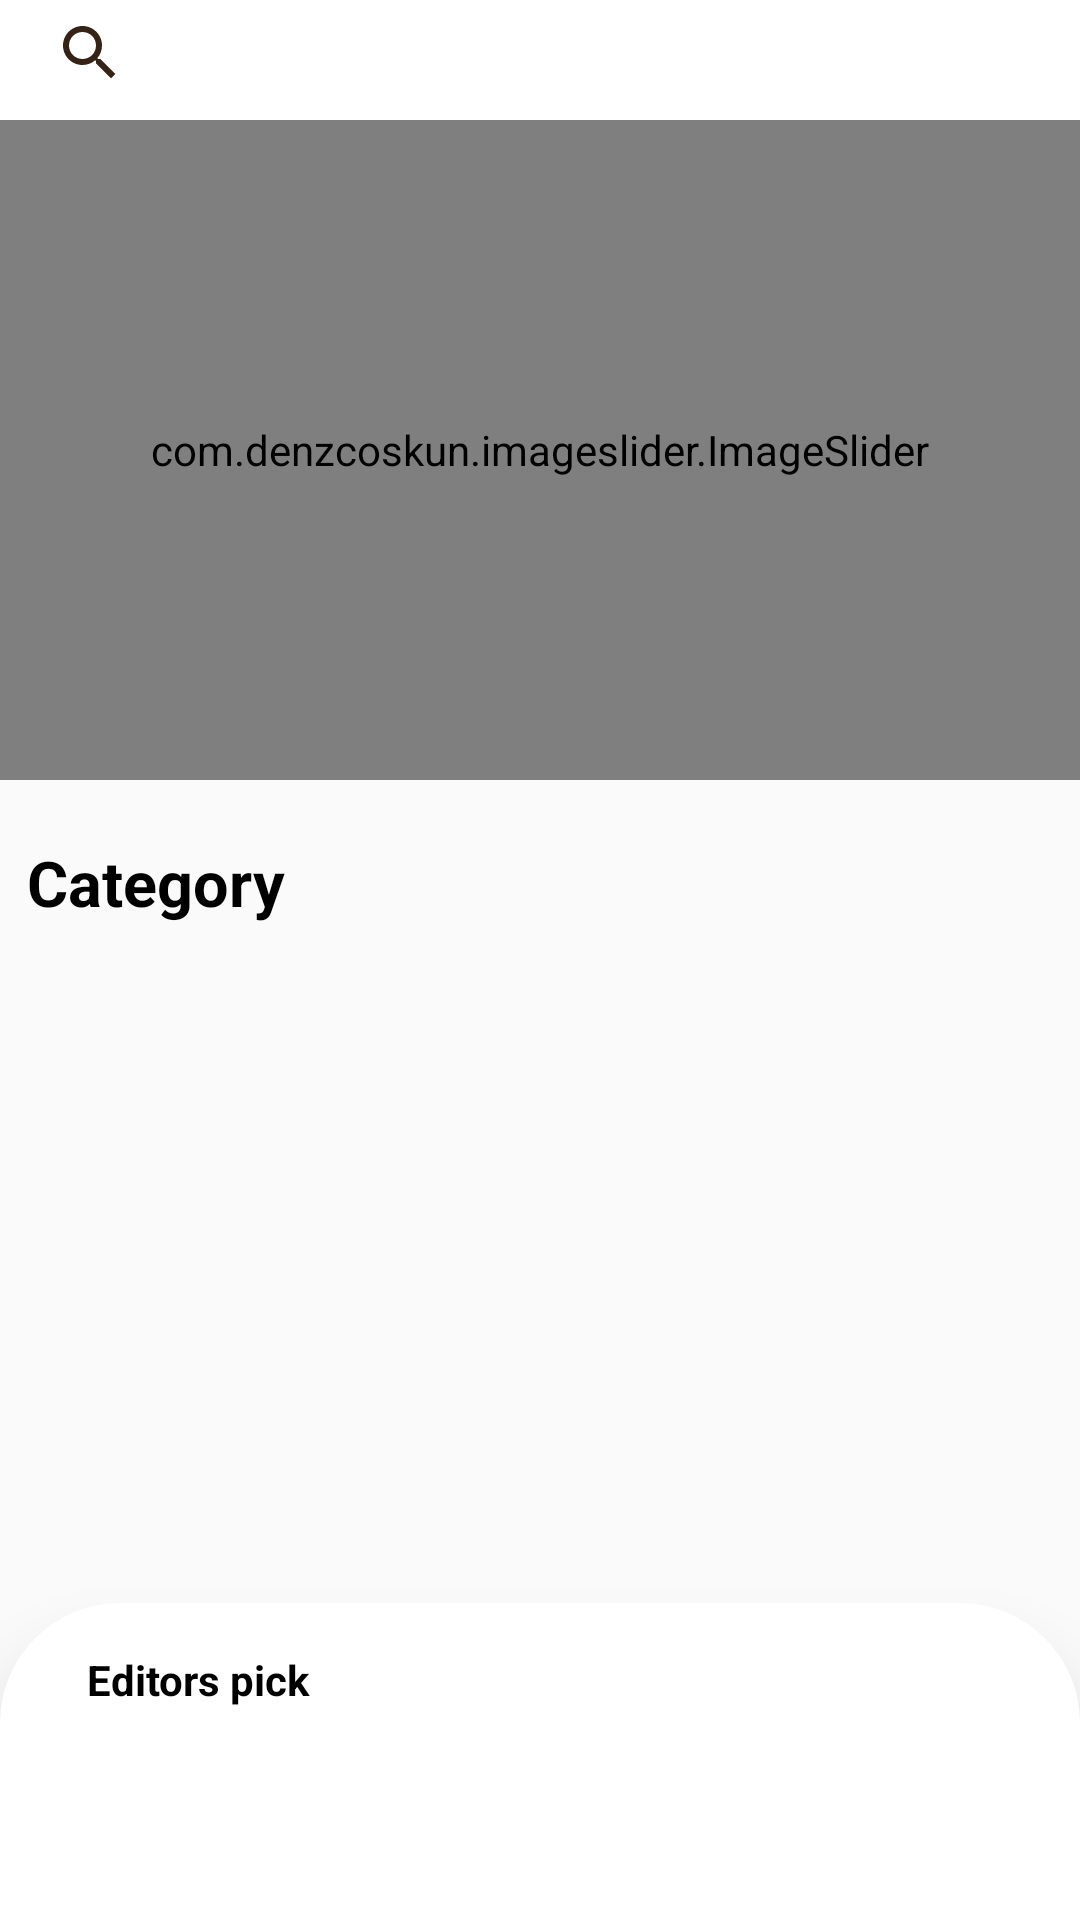

Where icons sit on this 1080px×1920px app screen, as [x1, y1, x2, y2]:
search: [63, 26, 115, 78]
